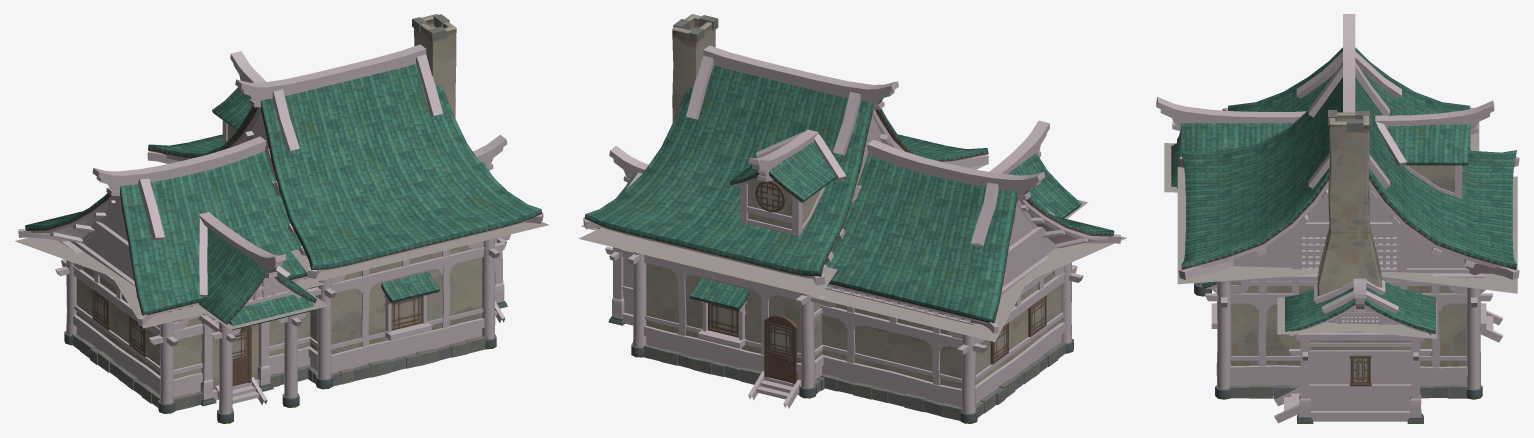
Rendered from Homeworld_Exterior_Ly_Build_House_10_Lod0.fbx.
The picture shows the model from 3 angles, left to right: view 1: azimuth 30°, elevation 25°; view 2: azimuth 150°, elevation 25°; view 3: azimuth 270°, elevation 25°; orthographic projection. The views are drawn at different scales.
Parts seen in each view (by area): view 1: Area_Ly_Build_Common_OutdoorsHouse_01_Lod0, Area_Ly_Build_Common_OutdoorsHouse_01_Ocl; view 2: Area_Ly_Build_Common_OutdoorsHouse_01_Lod0, Area_Ly_Build_Common_OutdoorsHouse_01_Ocl; view 3: Area_Ly_Build_Common_OutdoorsHouse_01_Lod0, Area_Ly_Build_Common_OutdoorsHouse_01_Ocl.
Part boxes in pixels (x1=…): Area_Ly_Build_Common_OutdoorsHouse_01_Lod0: x1=18, y1=14, x2=543, y2=423; Area_Ly_Build_Common_OutdoorsHouse_01_Ocl: x1=14, y1=222, x2=548, y2=329; Area_Ly_Build_Common_OutdoorsHouse_01_Lod0: x1=583, y1=14, x2=1121, y2=423; Area_Ly_Build_Common_OutdoorsHouse_01_Ocl: x1=579, y1=164, x2=1126, y2=341; Area_Ly_Build_Common_OutdoorsHouse_01_Lod0: x1=1156, y1=14, x2=1519, y2=423; Area_Ly_Build_Common_OutdoorsHouse_01_Ocl: x1=1164, y1=122, x2=1517, y2=338.
Size of what is drawn, in the model's own units: 20.28 by 12.7 by 14.42.
